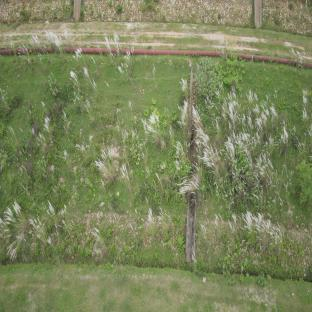slope_drain: (184, 64, 199, 262)
toe_drain: (0, 256, 312, 288)
vegetation: (180, 63, 282, 204), (100, 138, 140, 193), (153, 141, 185, 201)
